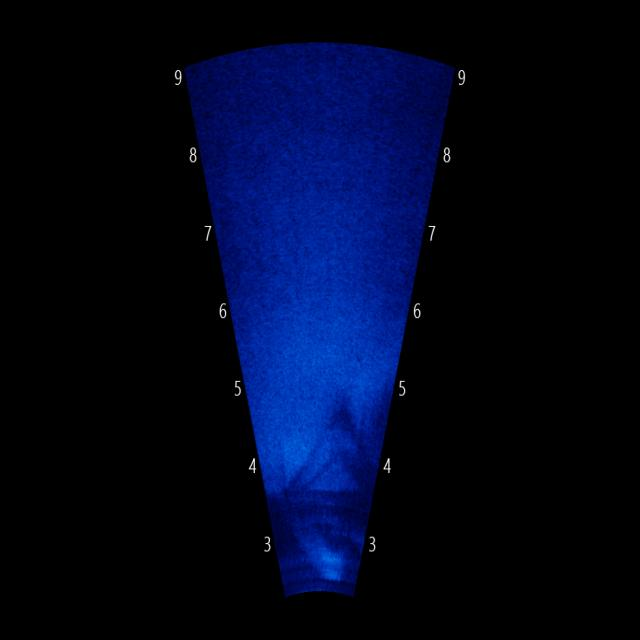triangle: (306, 434, 361, 509)
